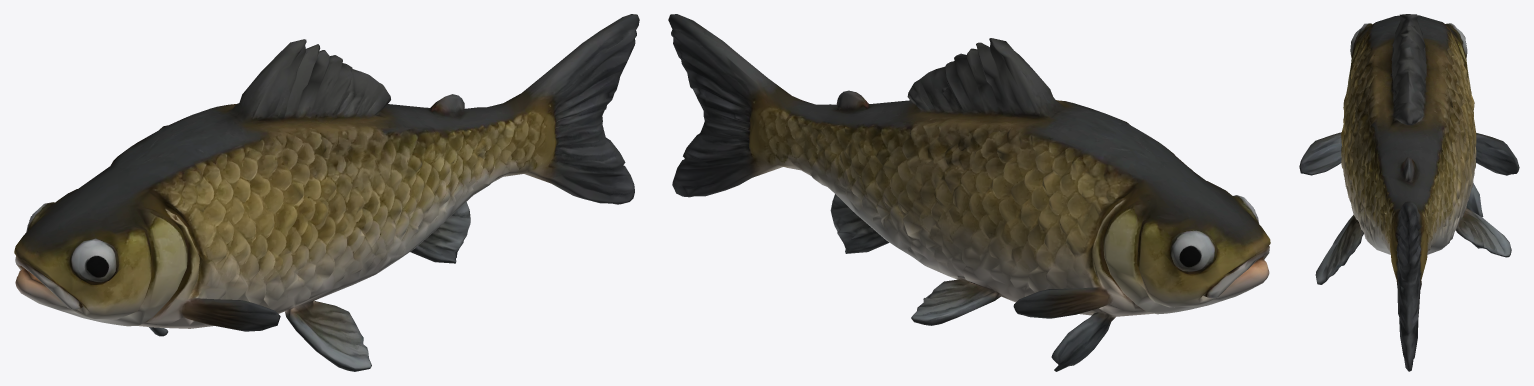
Rendered from fish-lesh.glb.
3 renders of one model, left to right at view 1: azimuth 30°, elevation 25°; view 2: azimuth 150°, elevation 25°; view 3: azimuth 270°, elevation 25°, orthographic. The views are drawn at different scales.
Visible parts, largest first — view 1: tripo_node_9049218c-c33e-459b-81fe-6174cc99316a; view 2: tripo_node_9049218c-c33e-459b-81fe-6174cc99316a; view 3: tripo_node_9049218c-c33e-459b-81fe-6174cc99316a.
Boxes of the visible parts, x1=… form: tripo_node_9049218c-c33e-459b-81fe-6174cc99316a: x1=14, y1=14, x2=639, y2=371; tripo_node_9049218c-c33e-459b-81fe-6174cc99316a: x1=668, y1=14, x2=1270, y2=371; tripo_node_9049218c-c33e-459b-81fe-6174cc99316a: x1=1299, y1=14, x2=1519, y2=371.
Size of the model in its own units: 0.9995 by 0.4558 by 0.3439.
Materials: 1 (1 with a texture image).
